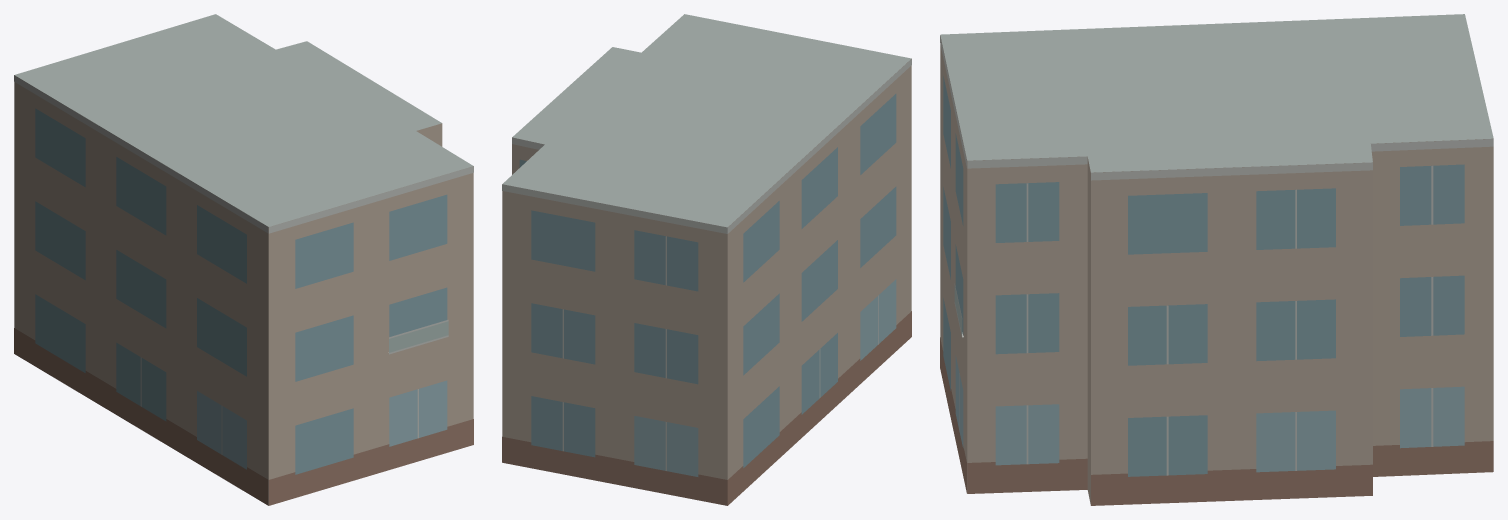
Rendered from survey-upis-32641271.glb.
3 renders of one model, left to right at view 1: azimuth 30°, elevation 25°; view 2: azimuth 150°, elevation 25°; view 3: azimuth 270°, elevation 25°, orthographic. The views are drawn at different scales.
Visible parts, largest first — view 1: survey-upis-32641271.tmp; view 2: survey-upis-32641271.tmp; view 3: survey-upis-32641271.tmp.
Boxes of the visible parts, x1=… form: survey-upis-32641271.tmp: x1=14, y1=14, x2=473, y2=505; survey-upis-32641271.tmp: x1=502, y1=14, x2=911, y2=505; survey-upis-32641271.tmp: x1=940, y1=14, x2=1493, y2=505.
Size of the model in its own units: 10.41 by 10.2 by 15.36.
